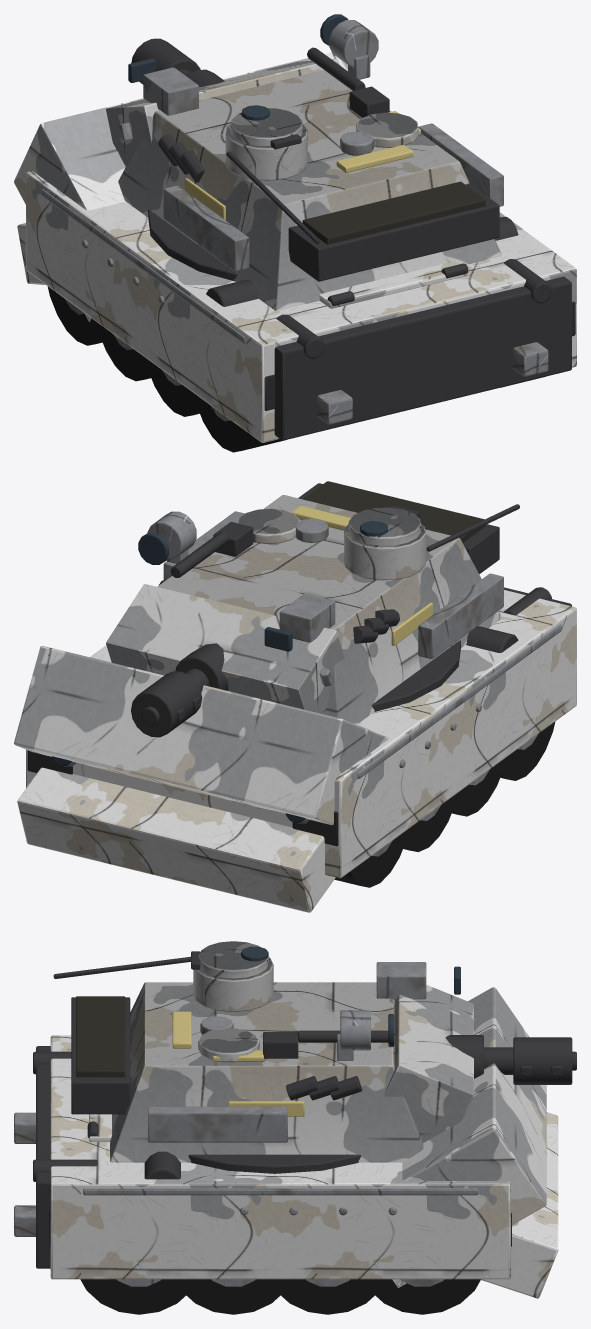
File: tank_scout.glb
The picture shows the model from 3 angles, top to bottom: view 1: azimuth 30°, elevation 25°; view 2: azimuth 150°, elevation 25°; view 3: azimuth 270°, elevation 25°; orthographic projection. The views are drawn at different scales.
Visible parts, largest first — view 1: HullMesh, TurretMesh, BarrelMesh, Wheel_L3, Wheel_L2, Wheel_L0, Wheel_L1; view 2: HullMesh, TurretMesh, BarrelMesh, Wheel_L0, Wheel_L3, Wheel_L1, Wheel_L2; view 3: HullMesh, TurretMesh, BarrelMesh, Wheel_R0, Wheel_R3, Wheel_R2, Wheel_R1.
Boxes of the visible parts, x1,y1,x2,y2 form: HullMesh: (14,52,576,442); TurretMesh: (106,14,503,311); BarrelMesh: (131,38,224,87); Wheel_L3: (194,394,285,452); Wheel_L2: (145,357,203,416); Wheel_L0: (47,286,106,345); Wheel_L1: (101,328,154,381); HullMesh: (14,587,576,912); TurretMesh: (106,481,519,724); BarrelMesh: (131,643,228,737); Wheel_L0: (334,831,405,887); Wheel_L3: (496,722,555,780); Wheel_L1: (400,793,457,852); Wheel_L2: (448,757,506,816); HullMesh: (14,987,558,1298); TurretMesh: (53,941,473,1173); BarrelMesh: (445,1035,576,1084); Wheel_R0: (364,1279,480,1314); Wheel_R3: (80,1279,196,1314); Wheel_R2: (175,1279,289,1314); Wheel_R1: (269,1279,383,1314).
Bounding box in the file's own units: 3.05 × 2.56 × 4.77.
Materials: 8 (2 with a texture image).
